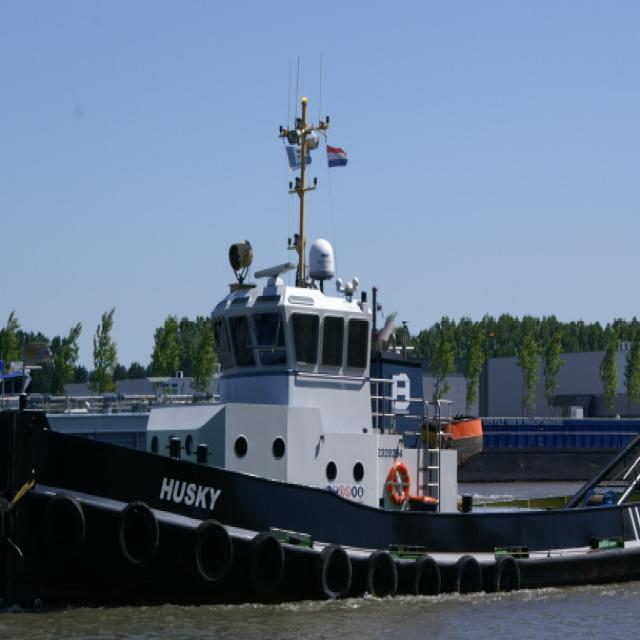tugboat: (1, 49, 640, 636)
